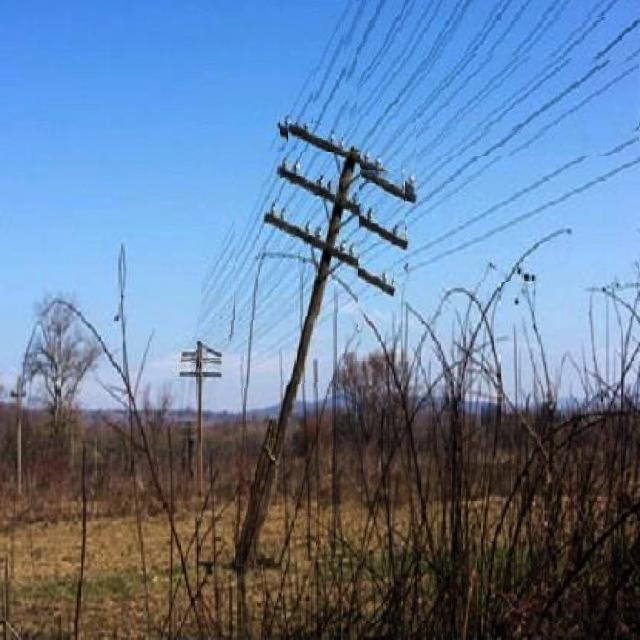crossarm: (264, 215, 393, 296), (281, 168, 405, 250), (288, 124, 416, 195), (180, 372, 224, 377), (182, 358, 223, 363)
pole: (235, 152, 360, 566), (196, 342, 201, 461)
wire: (366, 19, 639, 257), (357, 59, 640, 261), (201, 0, 382, 315), (197, 0, 364, 335), (423, 0, 619, 190), (377, 134, 639, 273), (416, 0, 612, 185), (391, 157, 639, 282), (409, 0, 569, 173), (400, 5, 564, 172), (280, 3, 408, 208), (383, 6, 535, 169), (376, 0, 515, 167), (313, 1, 433, 187), (399, 0, 506, 148), (365, 0, 463, 158), (350, 4, 443, 156), (348, 3, 416, 121), (299, 3, 353, 129), (406, 4, 474, 93)
